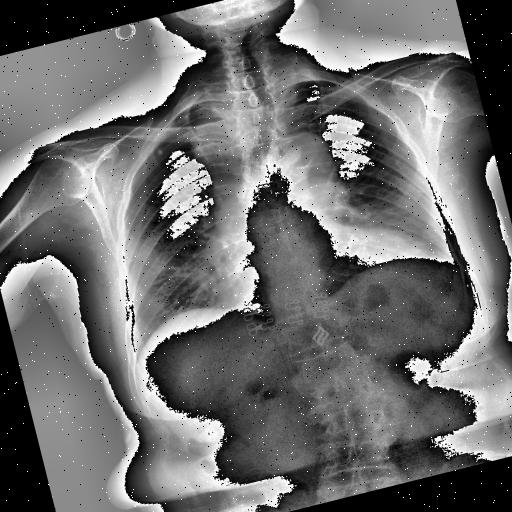0- Aortic enlargement: (262, 125, 342, 207), (262, 124, 336, 182), (278, 130, 334, 188)
3- Cardiomegaly: (214, 216, 430, 322), (216, 226, 436, 326), (222, 230, 431, 319)
7- Lung Opacity: (169, 98, 253, 224), (183, 105, 244, 218)
8- Nodule-Mass: (156, 148, 164, 156)
9- Other lesion: (220, 107, 290, 204), (224, 90, 290, 185)
